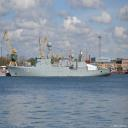Fragata: (6, 42, 112, 80)
